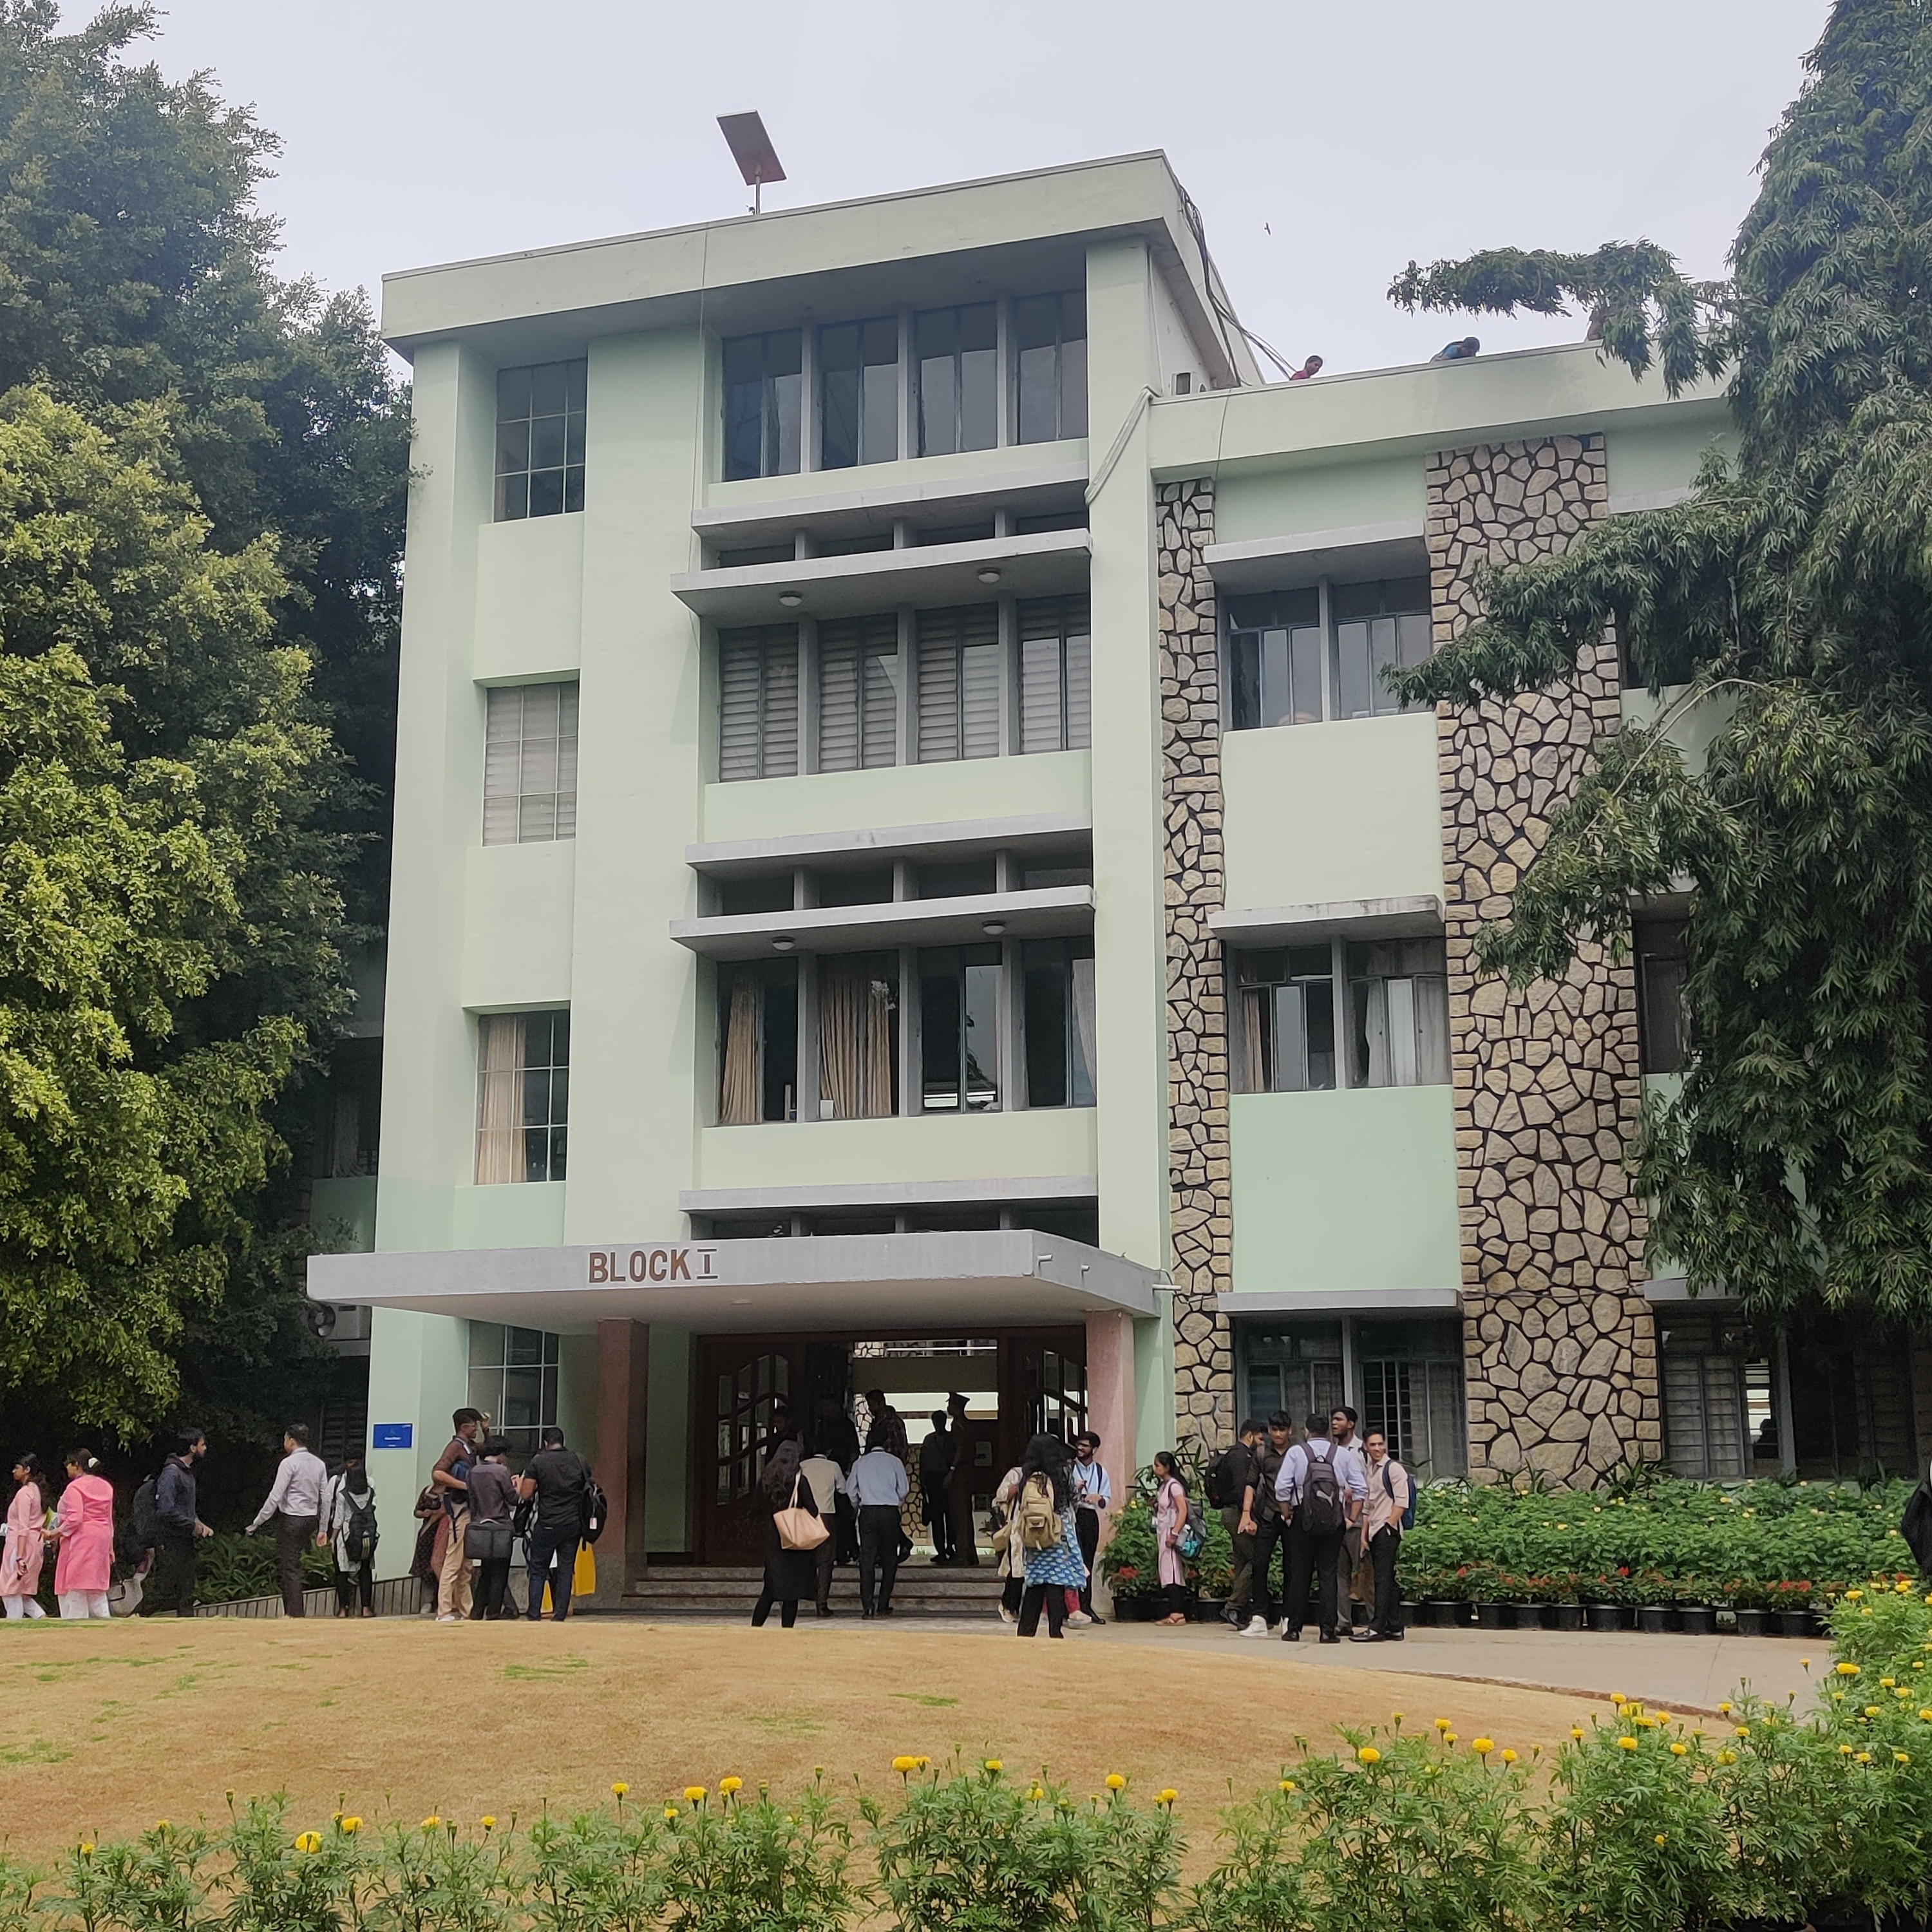Block 1: (386, 228, 1677, 1428)
